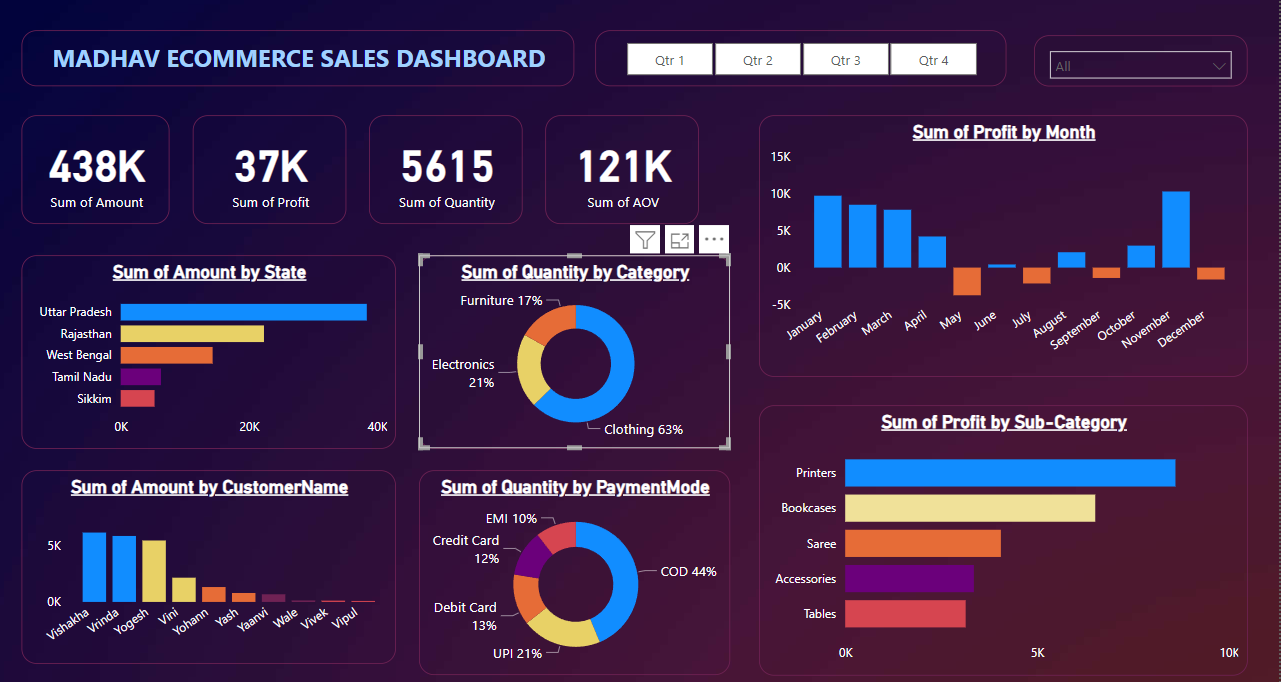

What the dashboard file says about the page in this screenshot:
{"tool":"powerbi","page":{"name":"Page 1","canvas":[1280,720],"ordinal":0},"visuals":[{"type":"textbox","box":[22,65.9,553,56.3],"z":0},{"type":"columnChart","fields":{"Y":["Details.Profit"],"Category":["Orders.Order Date.Variation.Date Hierarchy.Month"]},"box":[760,151.2,488.8,261.2],"z":1000},{"type":"barChart","fields":{"Category":["Details.Sub-Category"],"Y":["Details.Profit"]},"box":[760,441.2,488.8,270],"z":2000},{"type":"donutChart","fields":{"Y":["Details.Quantity"],"Category":["Details.PaymentMode"]},"box":[420,506.2,311.2,205],"z":3000},{"type":"donutChart","fields":{"Category":["Details.Category"],"Y":["Details.Quantity"]},"box":[420,291.2,311.2,193.8],"z":4000},{"type":"card","fields":{"Values":["Details.Amount"]},"box":[22,150.9,148.2,108.4],"z":5000},{"type":"card","fields":{"Values":["Details.Profit"]},"box":[193.5,150.9,153.7,108.4],"z":6000},{"type":"card","fields":{"Values":["Details.Quantity"]},"box":[370.5,150.9,153.7,108.4],"z":7000},{"type":"card","fields":{"Values":["Details.AOV"]},"box":[546.1,150.9,153.7,108.4],"z":8000},{"type":"barChart","fields":{"Category":["Orders.State"],"Y":["Details.Amount"]},"box":[22,290.9,374.6,193.5],"z":9000},{"type":"columnChart","fields":{"Y":["Details.Amount"],"Category":["Orders.CustomerName"]},"box":[22,506.3,374.6,193.5],"z":10000},{"type":"slicer","fields":{"Values":["Orders.Order Date.Variation.Date Hierarchy.Quarter"]},"box":[596.2,66.2,411.2,56.2],"z":11000},{"type":"slicer","fields":{"Values":["Orders.State"]},"box":[1035,71.2,213.8,51.2],"z":12000}]}

Visuals, with their boxes on the page's 1280x720 design canvas (x1, y1, x2, y2). These are canvas units, not pixel positions in the 1281x682 screenshot, which may show the page scaled, cropped or inside an application window:
textbox: 22 66 575 122
columnChart - Details.Profit x Orders.Order Date.Variation.Date Hierarchy.Month: 760 151 1249 412
barChart - Details.Sub-Category x Details.Profit: 760 441 1249 711
donutChart - Details.Quantity x Details.PaymentMode: 420 506 731 711
donutChart - Details.Category x Details.Quantity: 420 291 731 485
card - Details.Amount: 22 151 170 259
card - Details.Profit: 194 151 347 259
card - Details.Quantity: 370 151 524 259
card - Details.AOV: 546 151 700 259
barChart - Orders.State x Details.Amount: 22 291 397 484
columnChart - Details.Amount x Orders.CustomerName: 22 506 397 700
slicer - Orders.Order Date.Variation.Date Hierarchy.Quarter: 596 66 1007 122
slicer - Orders.State: 1035 71 1249 122
